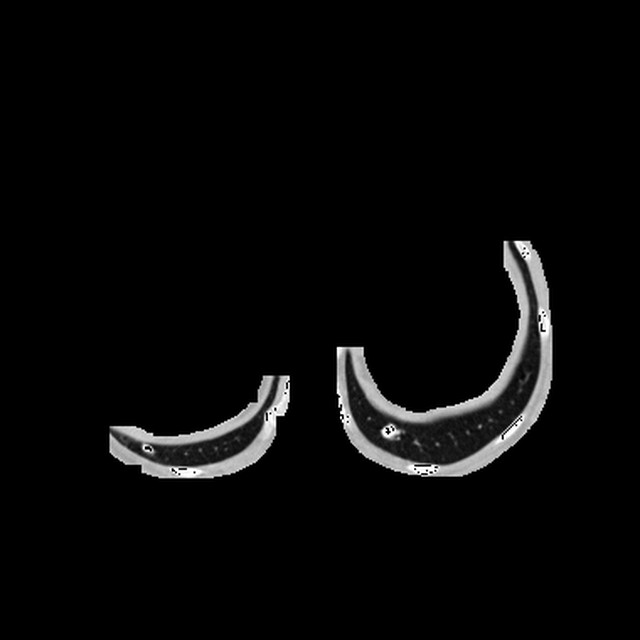PN: (381, 423, 394, 436)
